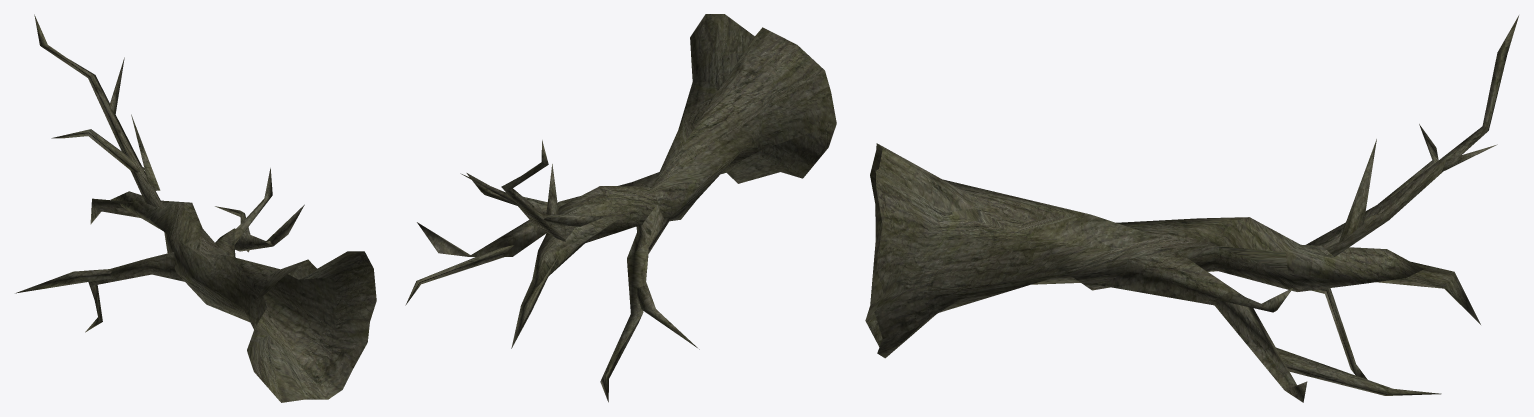
File: TI_Old_Tree_06_LOD_03.fbx
3 renders of one model, left to right at view 1: azimuth 30°, elevation 25°; view 2: azimuth 150°, elevation 25°; view 3: azimuth 270°, elevation 25°, orthographic. The views are drawn at different scales.
Visible parts, largest first — view 1: TI_Old_Tree_06_LOD_03; view 2: TI_Old_Tree_06_LOD_03; view 3: TI_Old_Tree_06_LOD_03.
Boxes of the visible parts, x1=… form: TI_Old_Tree_06_LOD_03: x1=15, y1=14, x2=376, y2=402; TI_Old_Tree_06_LOD_03: x1=405, y1=14, x2=836, y2=402; TI_Old_Tree_06_LOD_03: x1=865, y1=15, x2=1518, y2=402.
Bounding box in the file's own units: 6.9 × 6.7 × 10.63.
